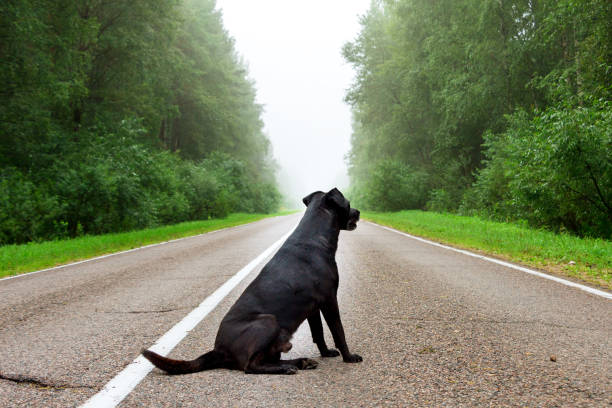kopek: (156, 182, 375, 397)
